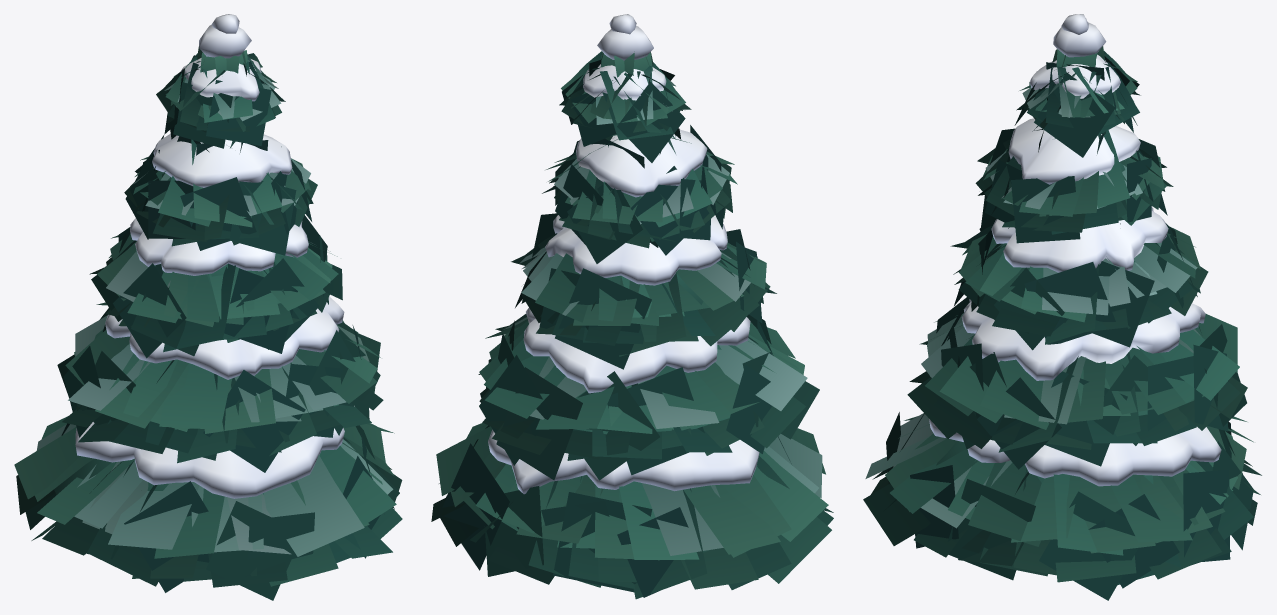
File: tree-snowFir-v0.glb
The picture shows the model from 3 angles, left to right: view 1: azimuth 30°, elevation 25°; view 2: azimuth 150°, elevation 25°; view 3: azimuth 270°, elevation 25°; orthographic projection.
Visible parts, largest first — view 1: cards_pine, d_body, foliage; view 2: cards_pine, d_body; view 3: cards_pine, d_body.
Boxes of the visible parts, left/top/right/bottom form: cards_pine: left=14, top=46, right=402, bottom=600; d_body: left=75, top=14, right=344, bottom=498; foliage: left=54, top=173, right=338, bottom=494; cards_pine: left=431, top=51, right=833, bottom=599; d_body: left=488, top=14, right=759, bottom=494; cards_pine: left=863, top=46, right=1261, bottom=600; d_body: left=929, top=14, right=1221, bottom=486.
Bounding box in the file's own units: 3.84 × 5.29 × 3.73.
